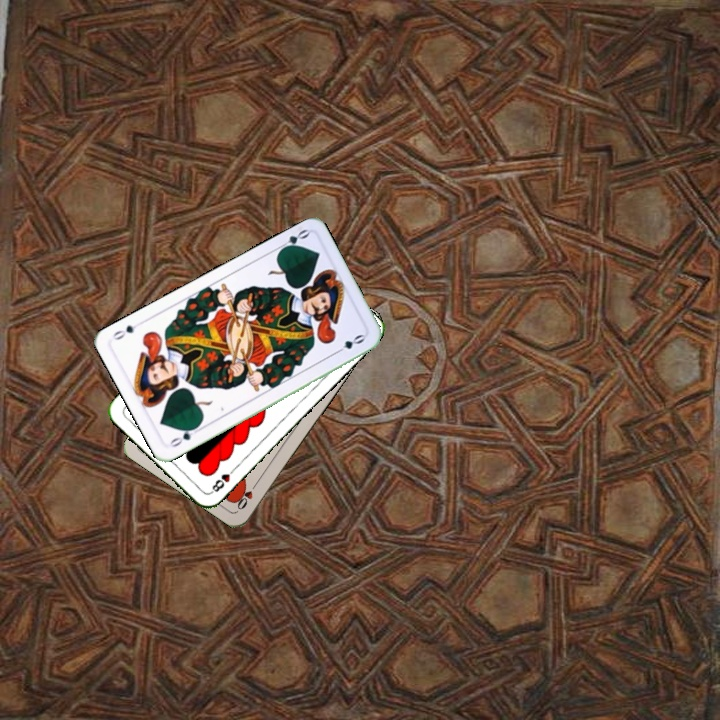GO: (273, 225, 312, 254), (165, 422, 203, 450)
H8: (207, 463, 239, 496)
HO: (233, 477, 261, 512)
